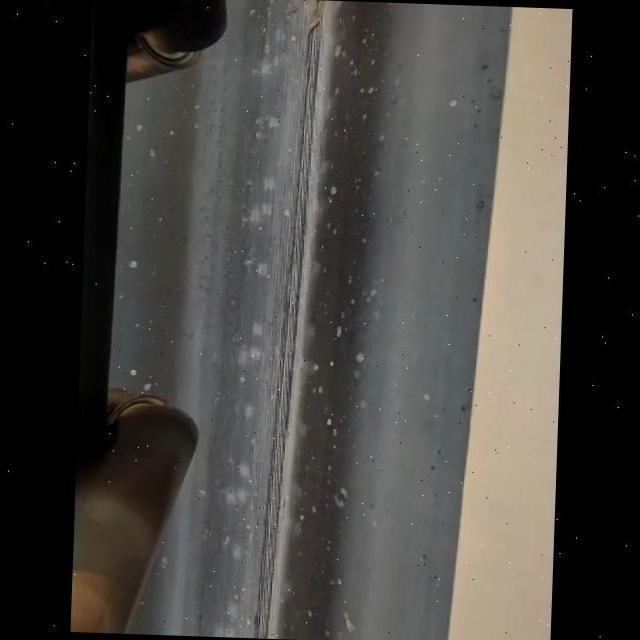Wear: (248, 0, 337, 640)
